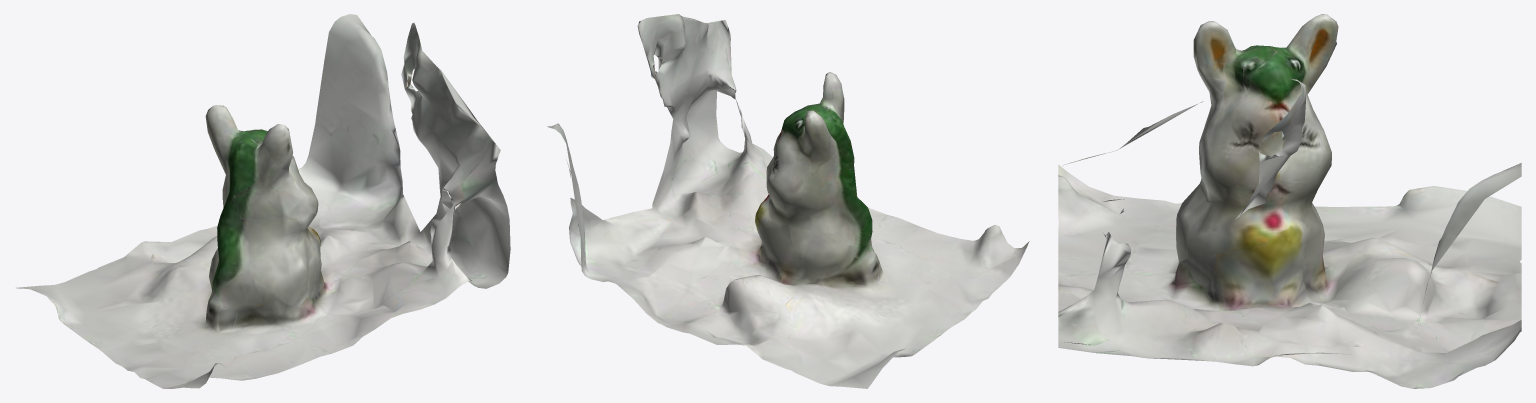
Rendered from hall.glb.
3 views of the same model, side by side, from view 1: azimuth 30°, elevation 25°; view 2: azimuth 150°, elevation 25°; view 3: azimuth 270°, elevation 25° (orthographic). The views are drawn at different scales.
Size of the model in its own units: 1.35 by 0.9416 by 1.13.
1 material, 1 textured.
